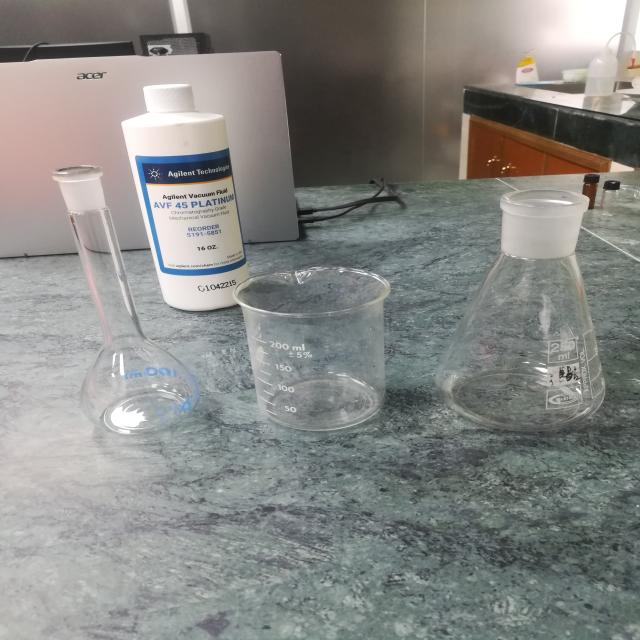Beaker: (222, 222, 401, 446)
Conical_Flask: (443, 170, 622, 439)
Volumetric_Flask: (37, 131, 215, 452)
